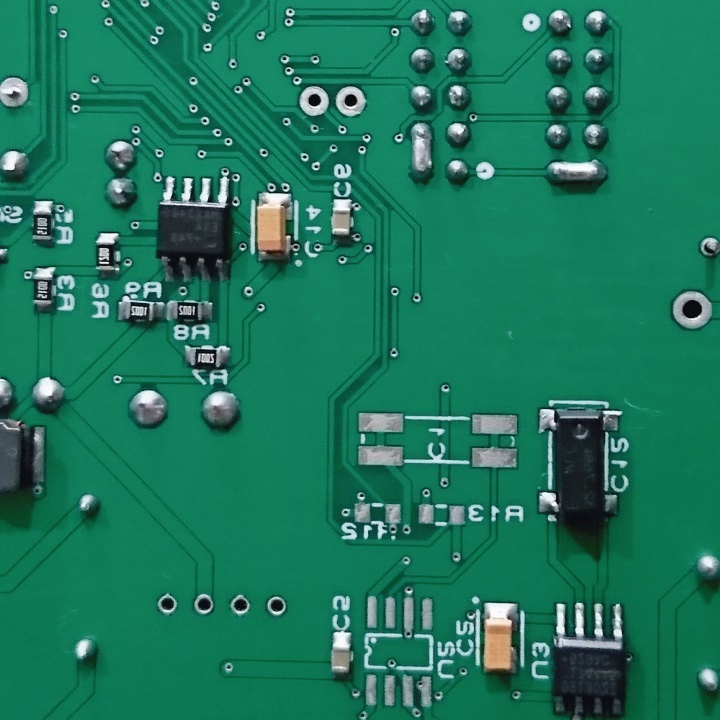F: (667, 287, 715, 336), (334, 82, 371, 121), (1, 74, 34, 112), (296, 84, 331, 119), (191, 592, 220, 620), (262, 593, 290, 622), (153, 592, 182, 616), (229, 592, 253, 620), (699, 236, 720, 258)
P: (543, 155, 612, 194), (408, 120, 439, 189)
